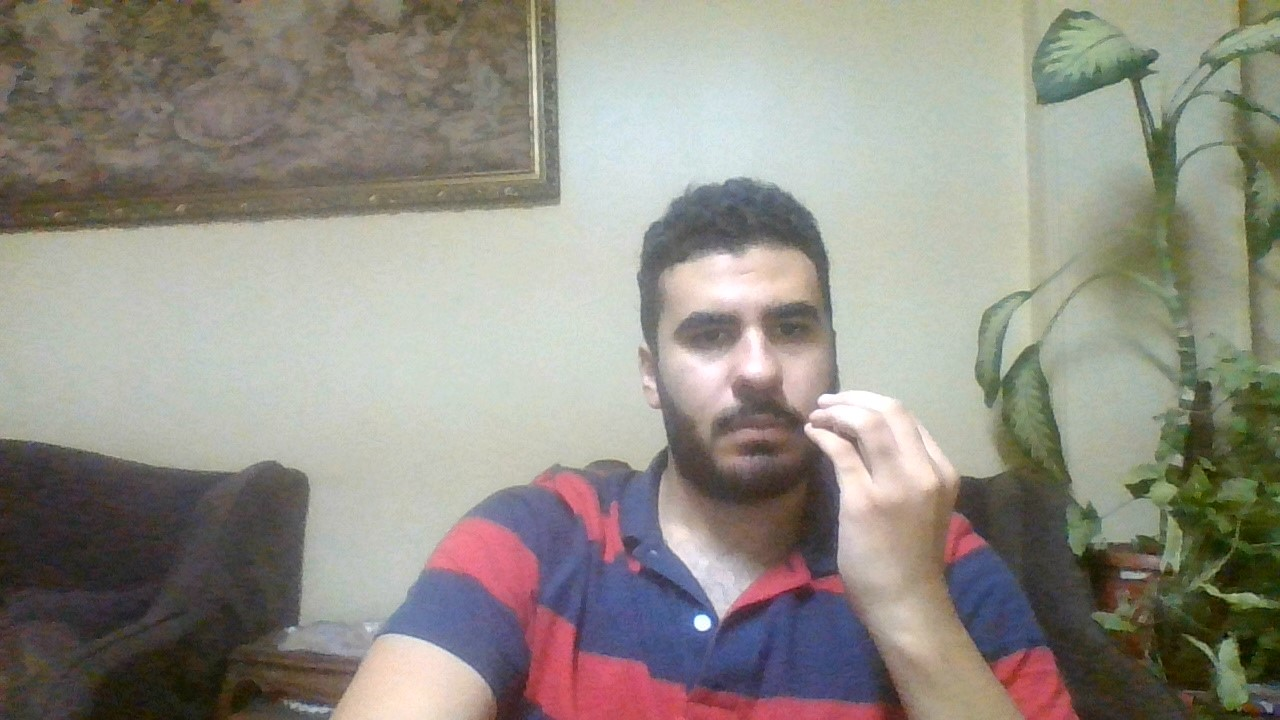eat: (797, 380, 969, 612)
